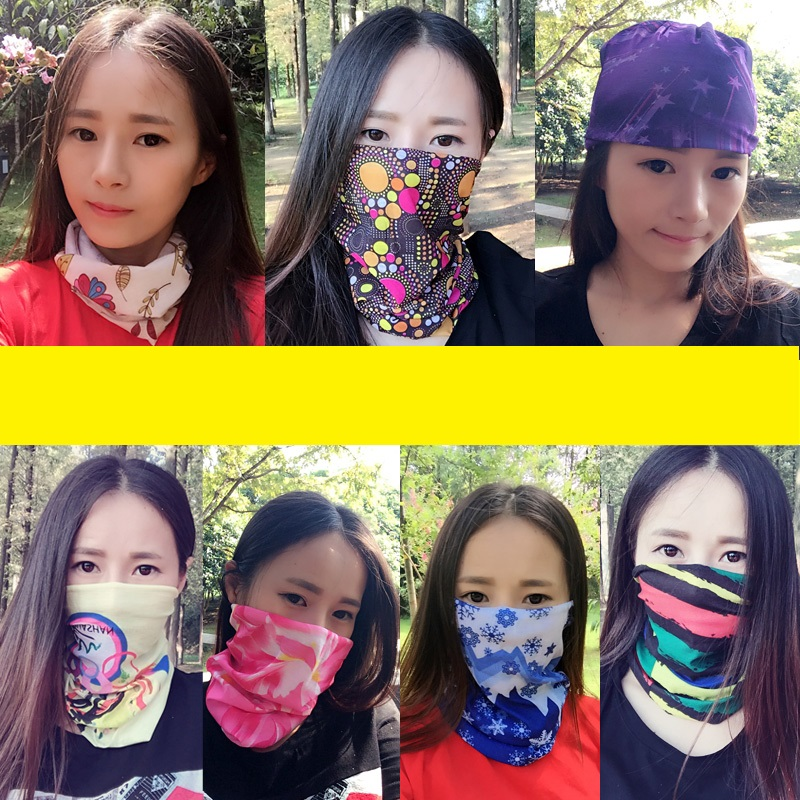face: (607, 98, 748, 271)
face_mask: (337, 47, 482, 260), (55, 44, 196, 247), (628, 471, 756, 657), (448, 514, 575, 697), (57, 490, 181, 672), (242, 542, 364, 690)
